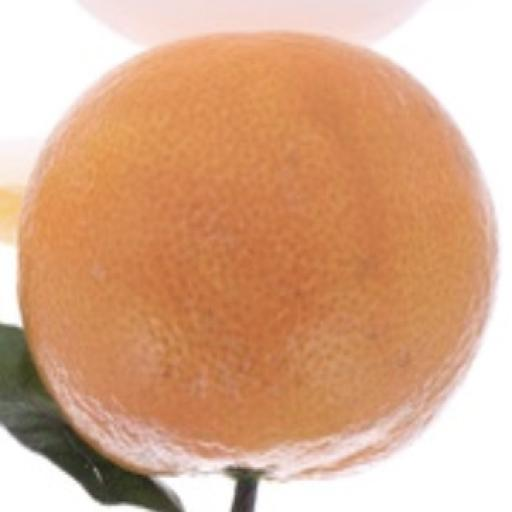orange: (20, 33, 496, 478), (0, 188, 22, 244)
